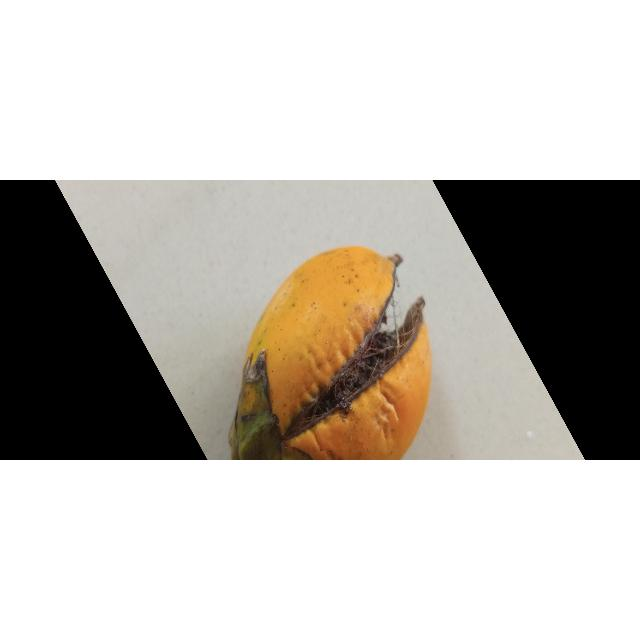damaged: (232, 247, 432, 461)
